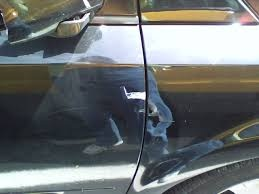Dent: (129, 133, 226, 191), (145, 63, 173, 139)
Scratch: (107, 113, 123, 145), (122, 84, 146, 103)
